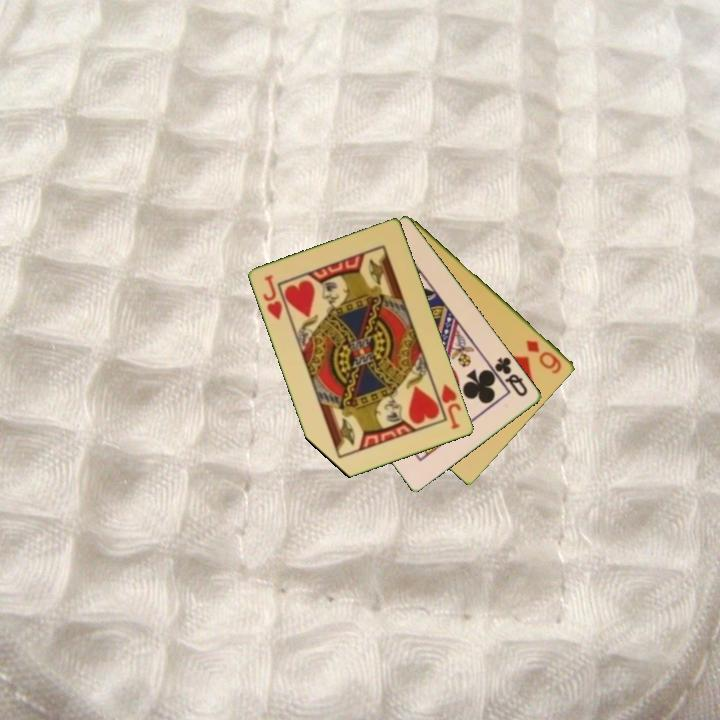6d: (523, 336, 565, 377)
Jh: (431, 380, 464, 432), (260, 271, 286, 323)
Qc: (491, 353, 531, 400)
